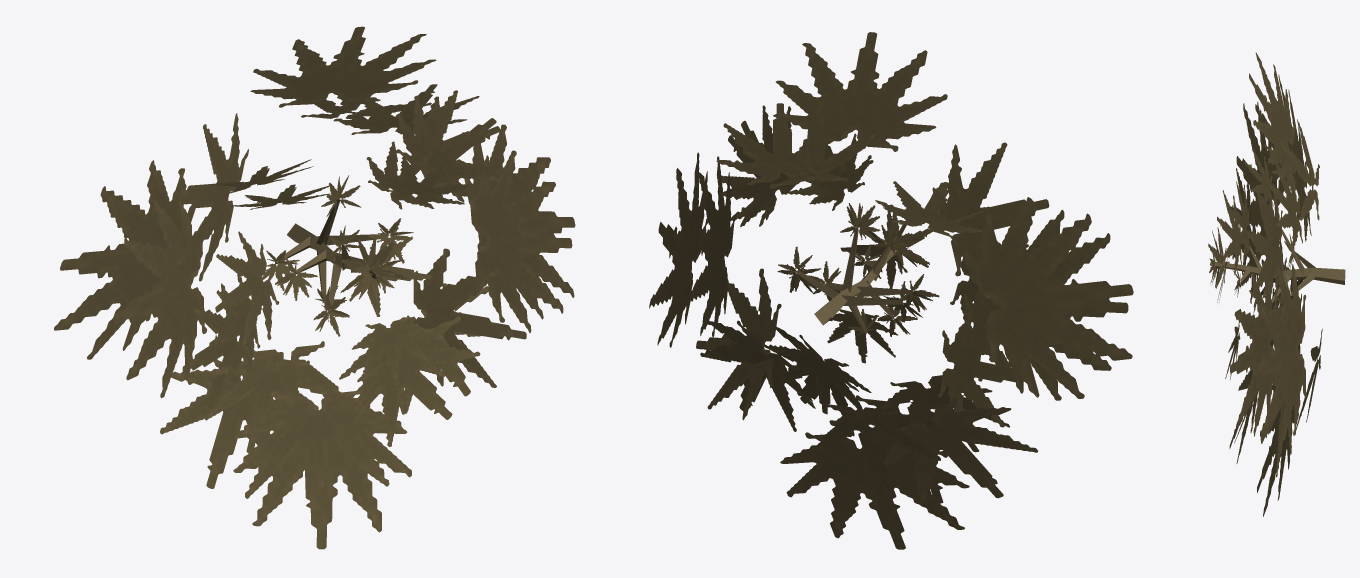
Rendered from p_landrace_vegetative_c4_cards.obj.
3 views of the same model, side by side, from view 1: azimuth 30°, elevation 25°; view 2: azimuth 150°, elevation 25°; view 3: azimuth 270°, elevation 25° (orthographic). The views are drawn at different scales.
Bounding box in the file's own units: 1.25 × 1.21 × 0.319.
Materials: 1 (1 with a texture image).
